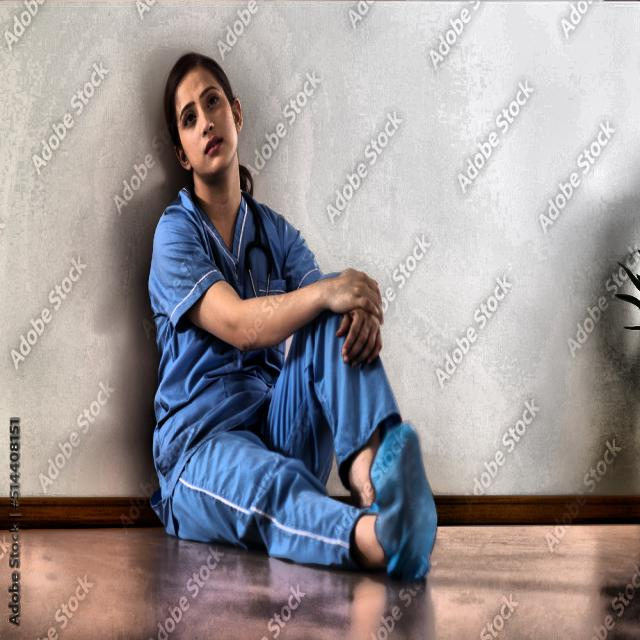Human: (144, 54, 455, 623)
